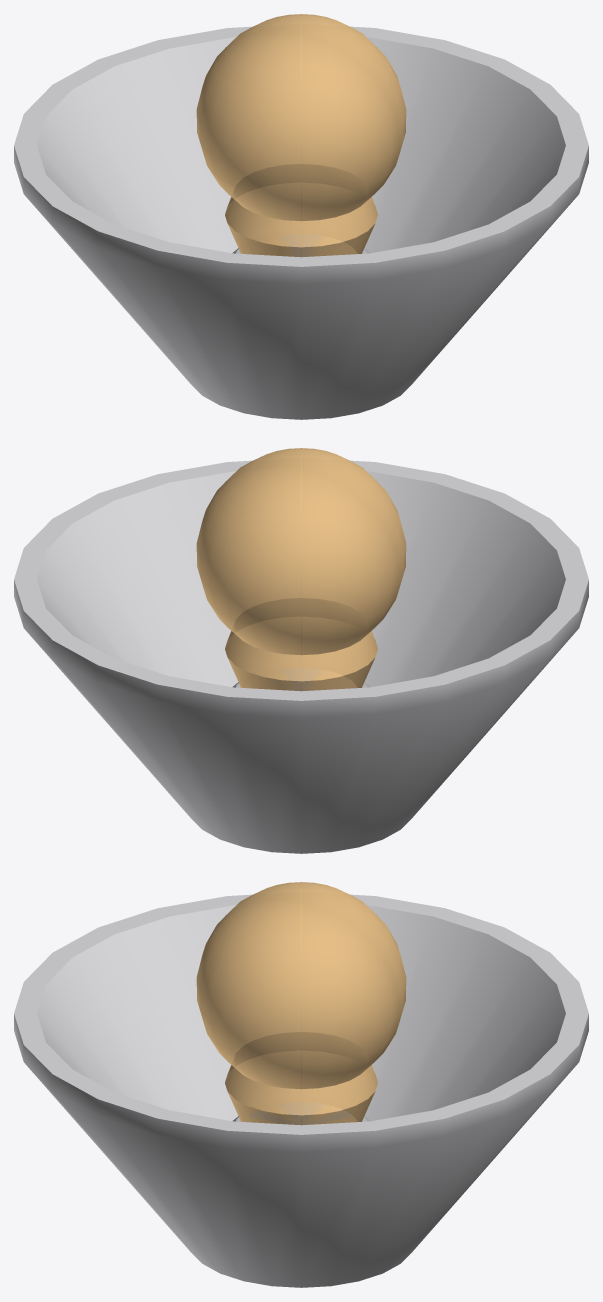
File: Ampoule_Bumper.fbx
The picture shows the model from 3 angles, top to bottom: view 1: azimuth 30°, elevation 25°; view 2: azimuth 150°, elevation 25°; view 3: azimuth 270°, elevation 25°; orthographic projection.
Visible parts, largest first — view 1: Ampoule_Bumper; view 2: Ampoule_Bumper; view 3: Ampoule_Bumper.
Boxes of the visible parts, <box> form: Ampoule_Bumper: <box>14,14,588,419</box>; Ampoule_Bumper: <box>14,448,588,853</box>; Ampoule_Bumper: <box>14,882,588,1287</box>.
Bounding box in the file's own units: 0.3 × 0.2 × 0.3.
